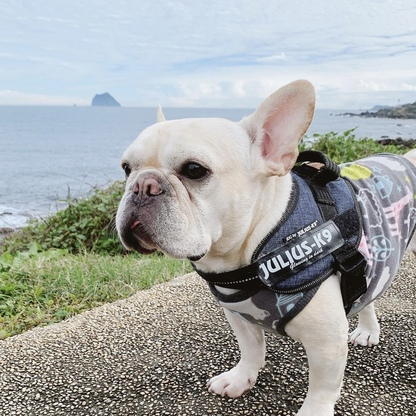bulldog: (114, 78, 416, 415)
